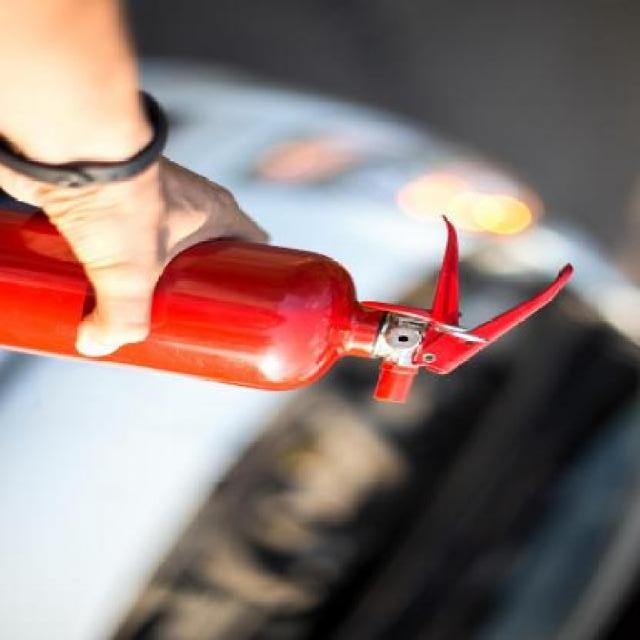fire extinguisher: (0, 203, 576, 403)
